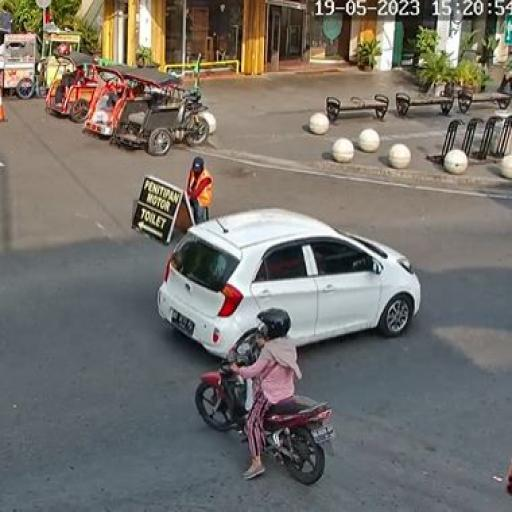mobil: (159, 204, 419, 358)
motor: (190, 330, 328, 491)
